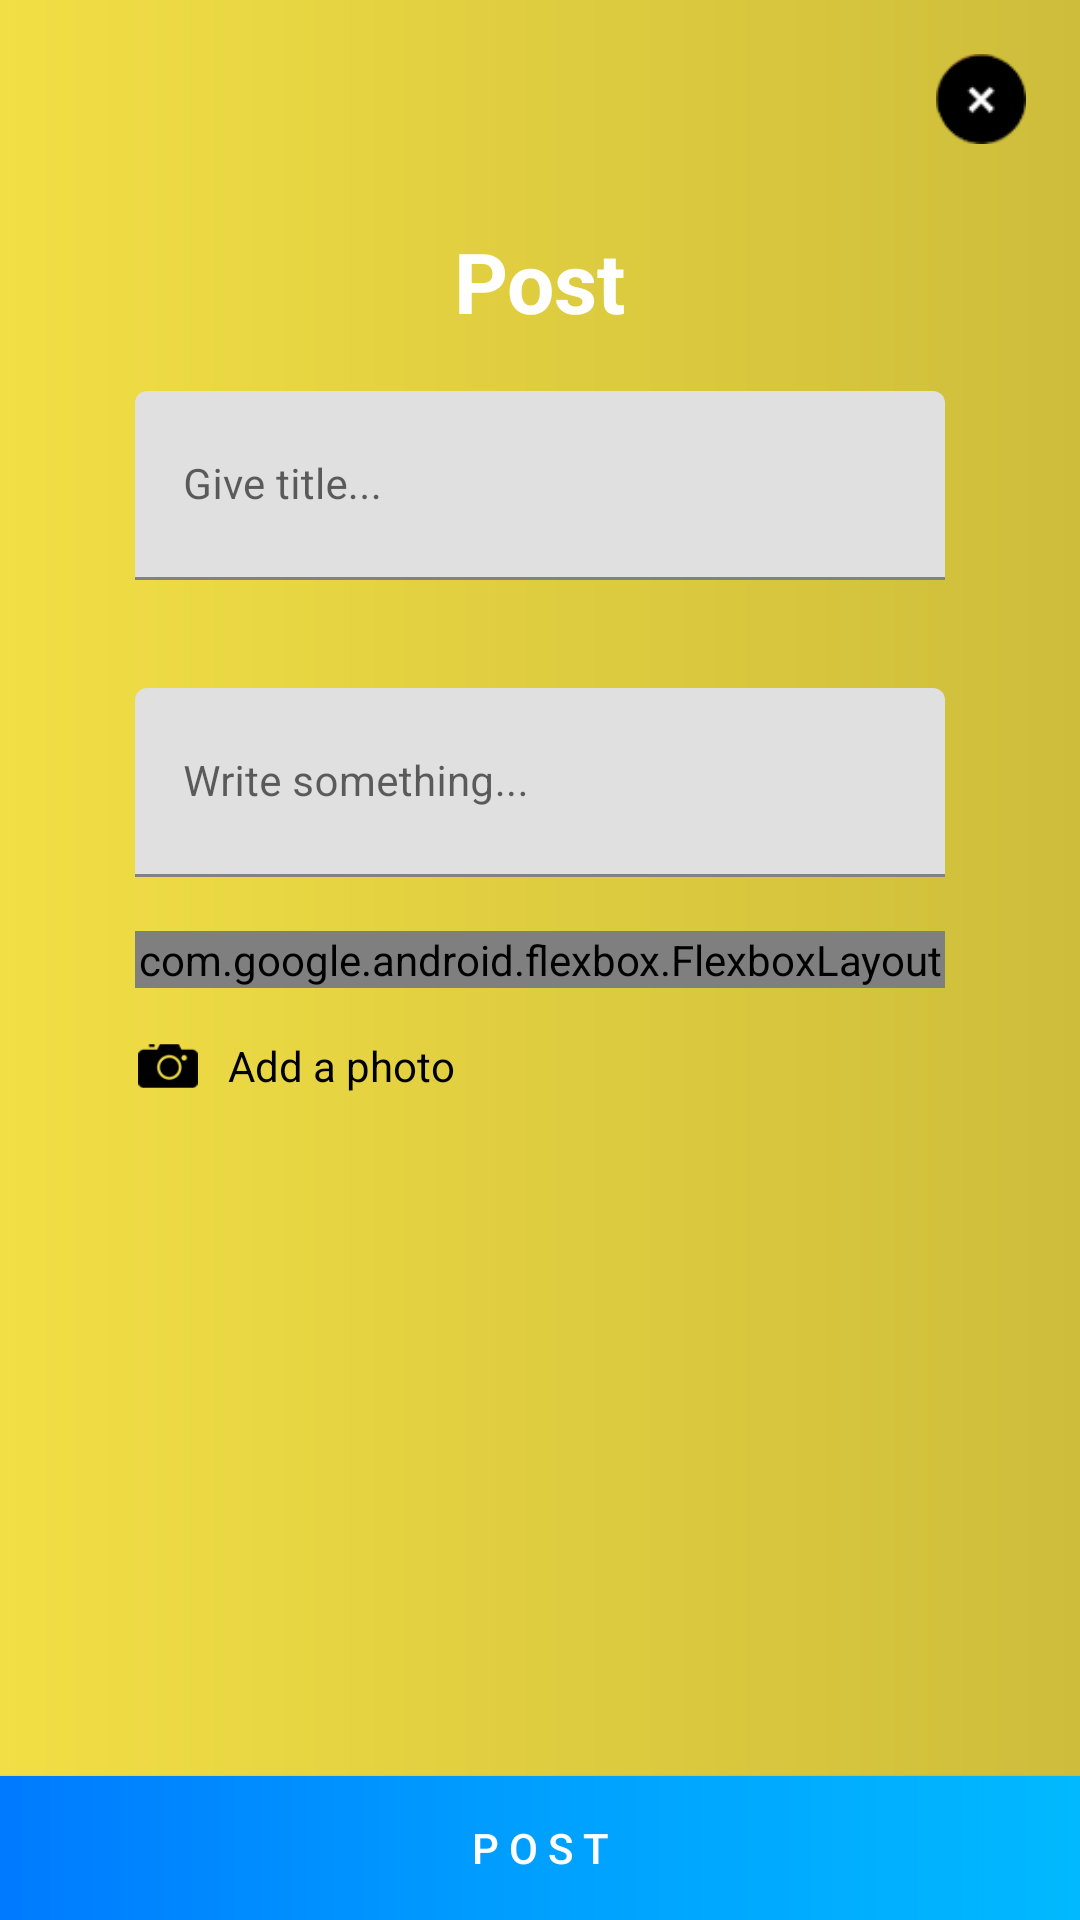

Screen size 1080px×1920px. Icon name, then its box in pixels as Rect(x1, y1, x2, y2):
camera: Rect(138, 1044, 198, 1088)
clear: Rect(936, 54, 1026, 144)
